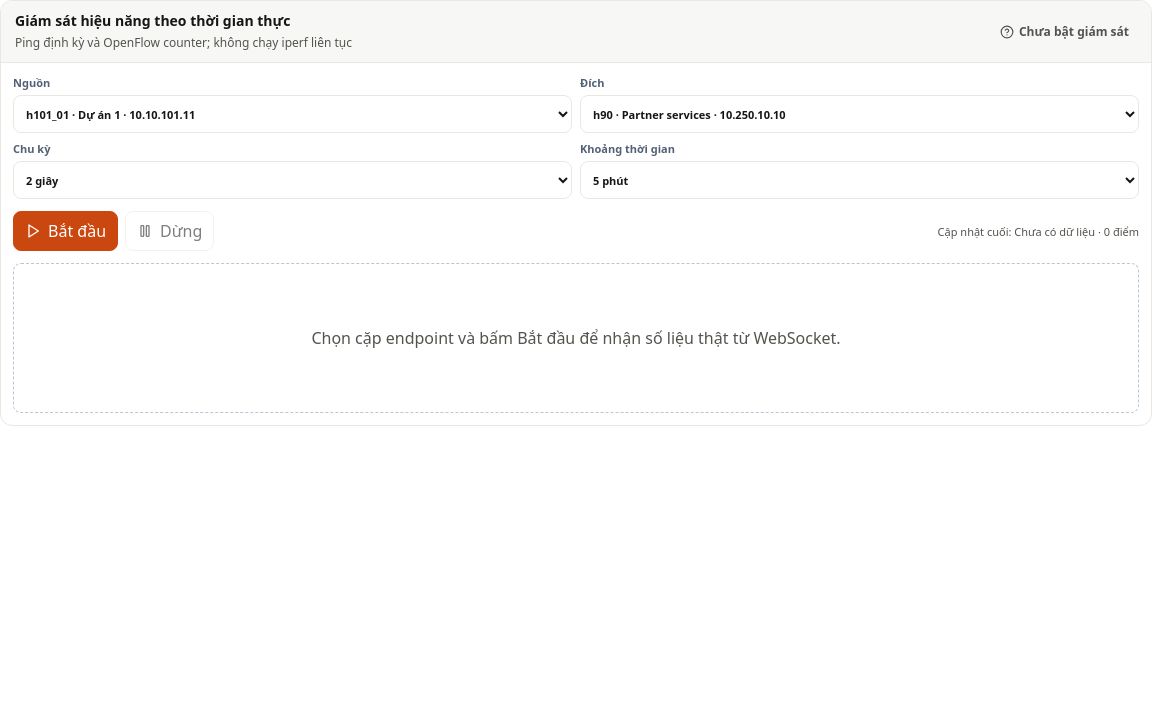
RealtimePanel › starts WebSocket monitoring for the selected pair and shows real counters
Expected: the text "bấm Bắt đầu" is shown, [311,327,841,349]
Click the button "Bắt đầu" at (66, 231), box [13,211,118,251]
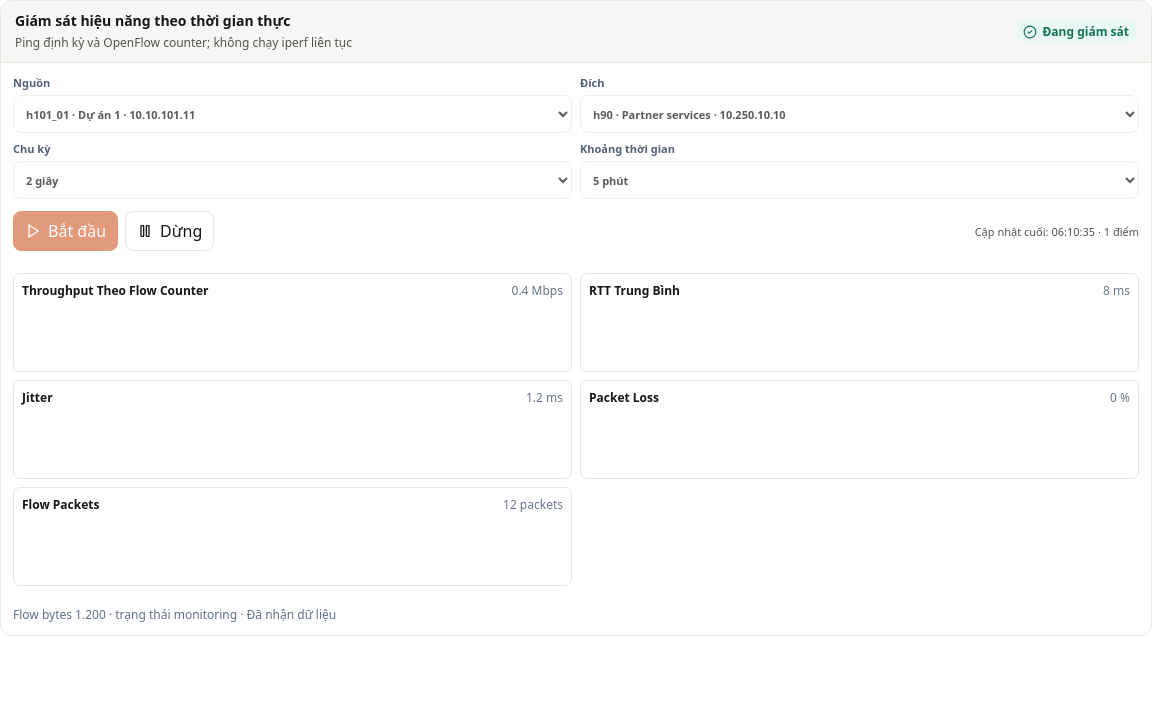
Result: the text "Đang giám sát" is shown at [1015,19,1137,44]
Result: the icon named "RTT trung bình: 8 ms" is shown at [589,299,1130,363]
Result: the text "Flow bytes 1.200 · trạng thái monitoring · Đã nhận dữ liệu" is shown at [13,606,336,623]
